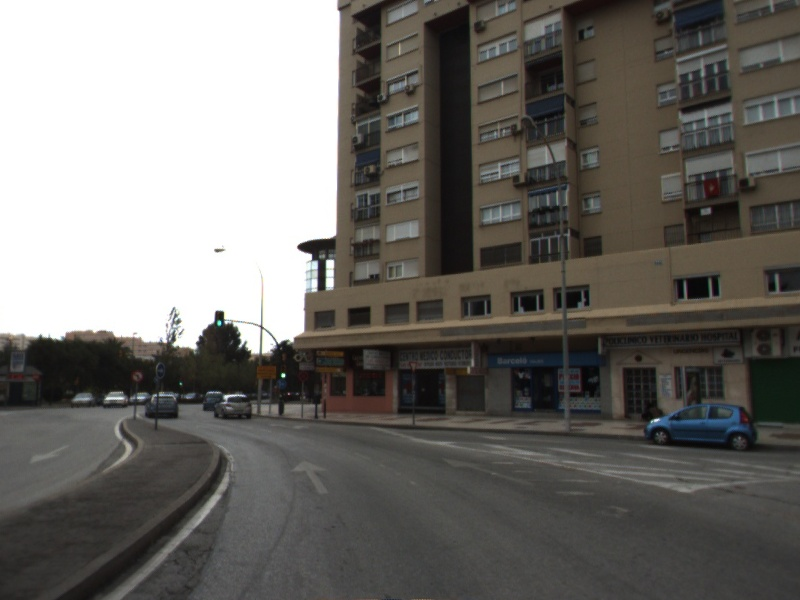STRAIGHT: (439, 454, 536, 488), (288, 457, 332, 496)
